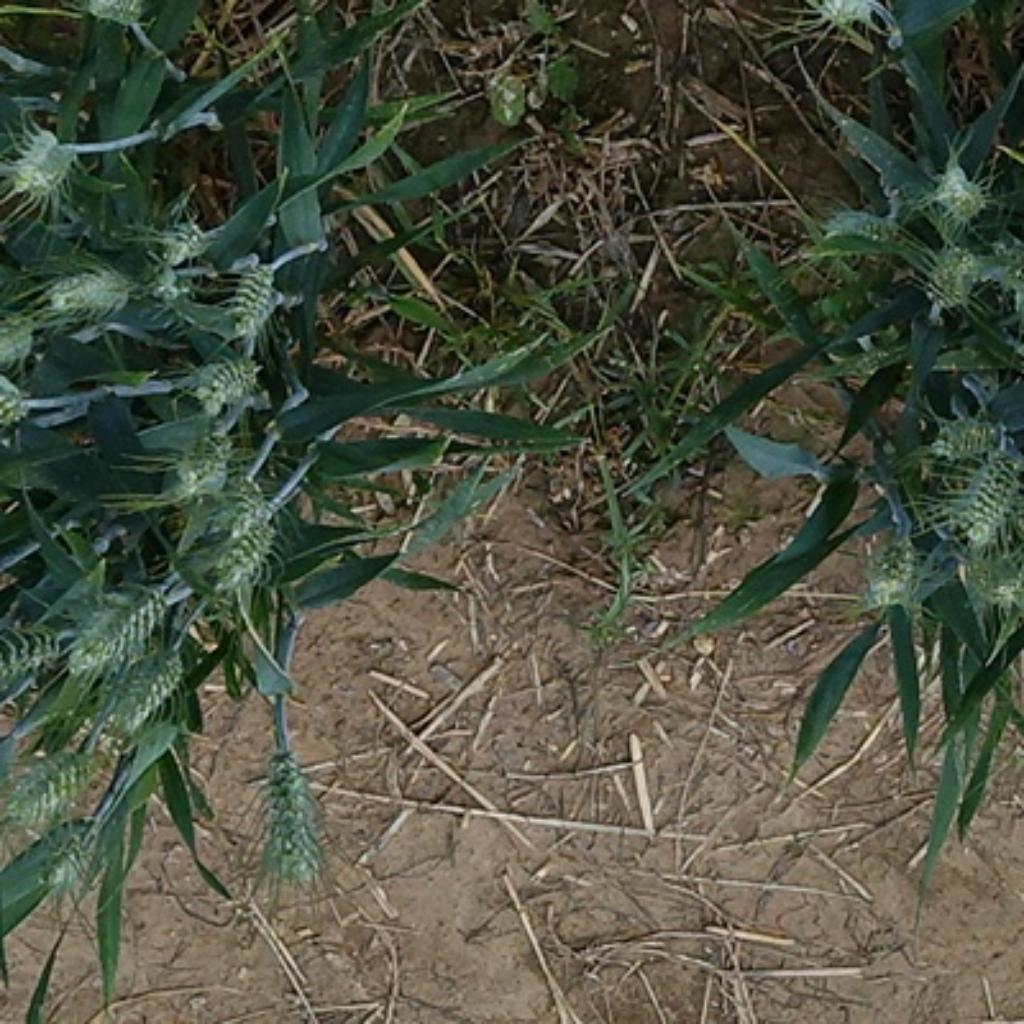0-0: (248, 739, 325, 885), (5, 739, 120, 834), (61, 576, 168, 675), (89, 632, 194, 727), (942, 437, 1024, 547), (192, 512, 281, 604), (848, 518, 930, 613), (181, 463, 268, 550), (921, 407, 1011, 478), (2, 120, 81, 199), (43, 258, 140, 322), (135, 217, 207, 302), (156, 435, 240, 501), (179, 350, 266, 412), (220, 253, 284, 335), (925, 235, 999, 304), (34, 827, 95, 909), (958, 551, 1024, 622), (924, 163, 993, 225), (0, 622, 64, 688), (819, 207, 903, 248), (74, 0, 153, 30), (0, 309, 37, 371), (806, 0, 880, 30), (0, 375, 38, 422), (1021, 445, 1024, 542)
